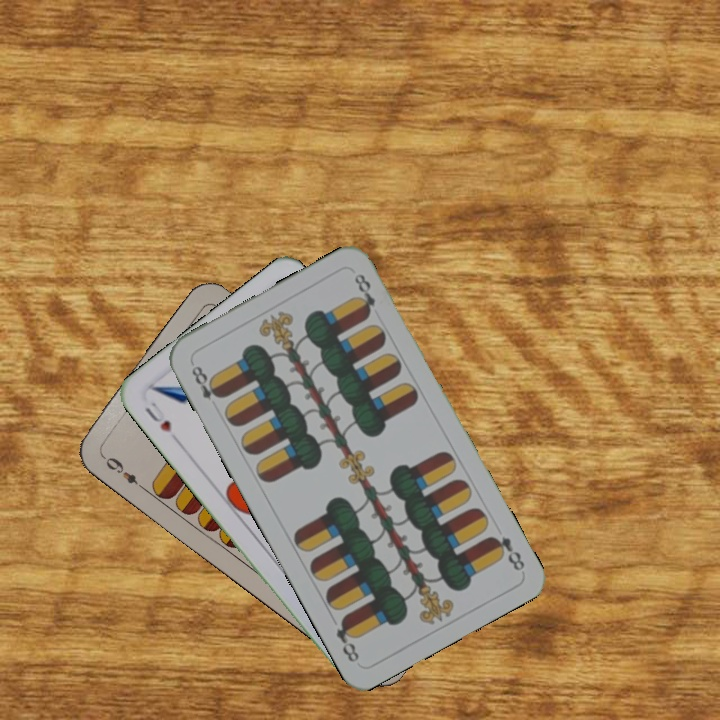E8: (485, 532, 528, 574), (187, 358, 226, 402)
E9: (98, 451, 148, 493)
HU: (141, 397, 175, 435)
